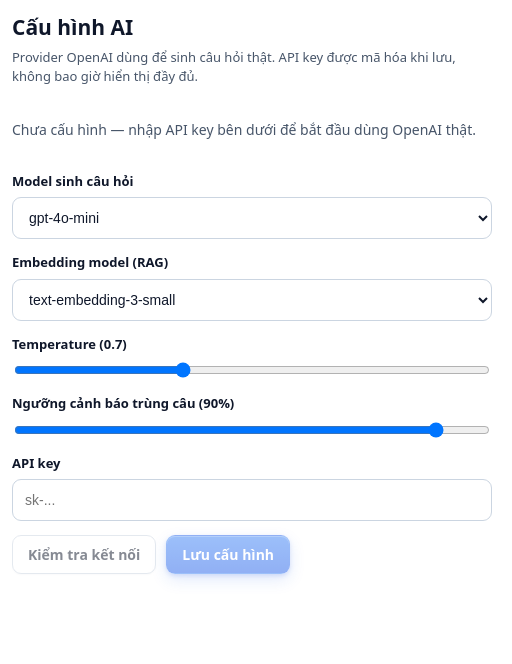
Scenario: AdminAIConfigPage › hiển thị lỗi khi kiểm tra kết nối thất bại
expect the text "Chưa cấu hình" is shown: met, box [12,120,476,138]
Type "sk-bad-key" into the password field with placeholder "sk-...". click: [252, 500]
box: [12,479,492,521]
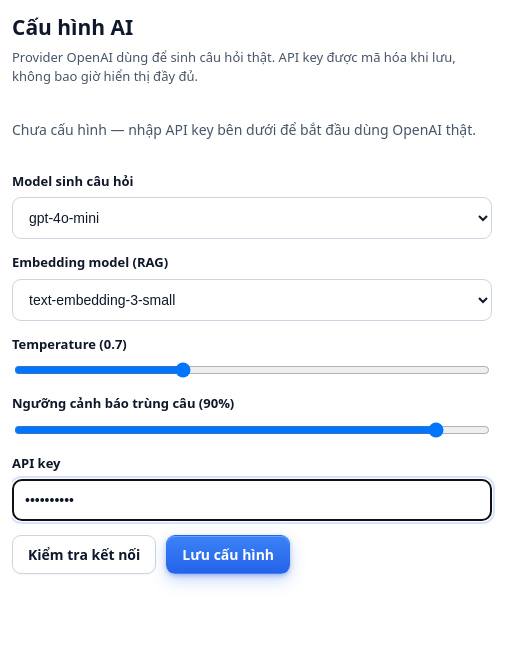
Click the button "Kiểm tra kết nối". click: [84, 554]
box: [12,535,156,574]
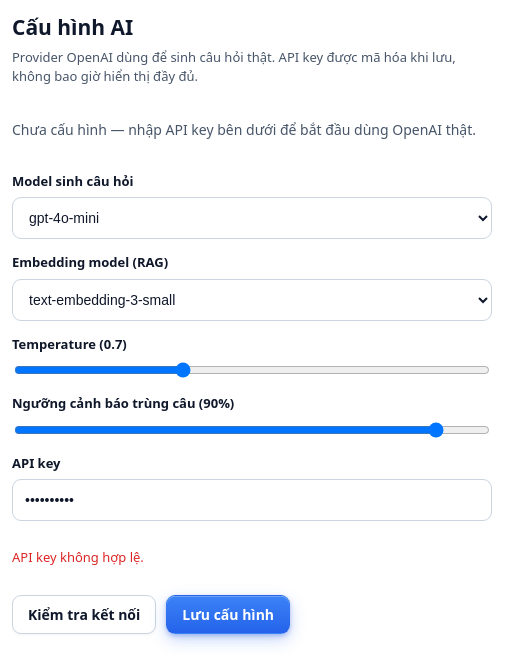
expect the text "API key không hợp lệ." is shown: met, box [12,548,144,566]
